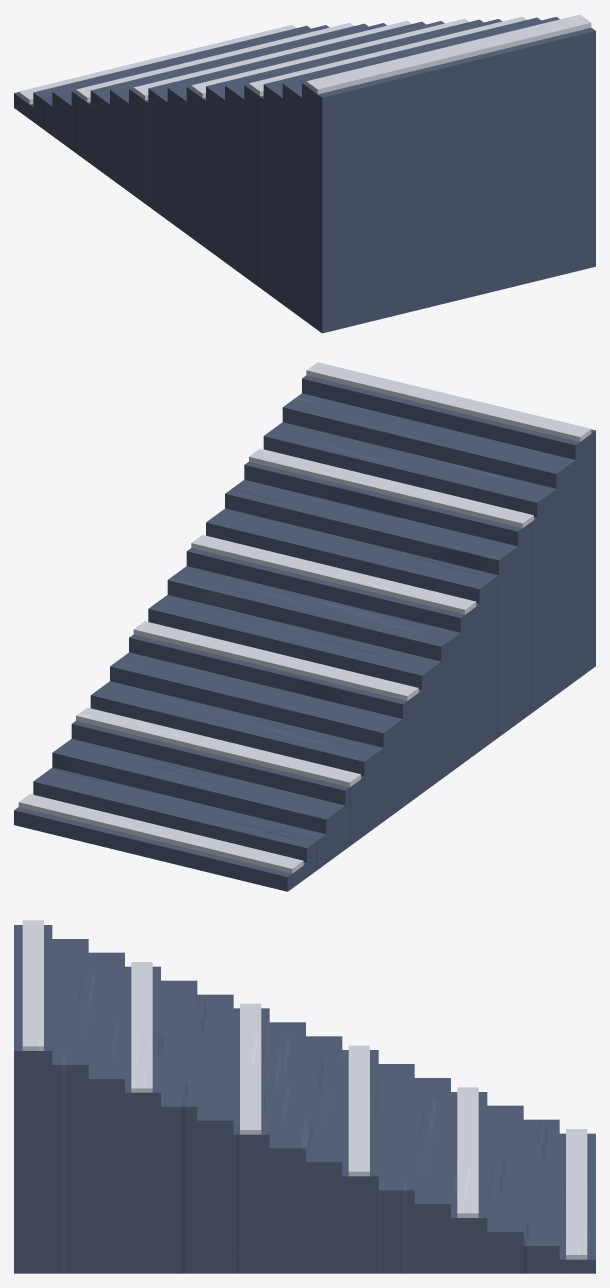
File: snow_stairway_lod0.glb
The picture shows the model from 3 angles, top to bottom: view 1: azimuth 30°, elevation 25°; view 2: azimuth 150°, elevation 25°; view 3: azimuth 270°, elevation 25°; orthographic projection. The views are drawn at different scales.
Visible parts, largest first — view 1: stone_20, stone_18, stone_19, stone_15, snow_21, stone_14, stone_11, stone_16, stone_10, stone_6, stone_7, stone_12 (+9 smaller); view 2: stone_19, stone_18, stone_15, stone_14, stone_11, stone_10, stone_7, stone_6, stone_20, stone_3, stone_2, stone_16 (+10 smaller); view 3: stone_19, stone_18, stone_15, stone_20, stone_14, stone_11, stone_10, stone_16, stone_7, stone_12, stone_6, stone_3 (+10 smaller).
Part boxes in pixels (left/top/right/bottom): stone_20: left=302, top=27, right=595, bottom=333; stone_18: left=263, top=17, right=540, bottom=305; stone_19: left=282, top=17, right=559, bottom=318; stone_15: left=225, top=19, right=501, bottom=276; snow_21: left=306, top=14, right=591, bottom=94; stone_14: left=206, top=19, right=483, bottom=261; stone_11: left=167, top=21, right=444, bottom=234; stone_16: left=244, top=84, right=264, bottom=290; stone_10: left=148, top=21, right=425, bottom=220; stone_6: left=90, top=23, right=367, bottom=178; stone_7: left=110, top=23, right=386, bottom=191; stone_12: left=186, top=86, right=206, bottom=248; stone_19: left=282, top=393, right=576, bottom=693; stone_18: left=263, top=422, right=557, bottom=707; stone_15: left=225, top=479, right=519, bottom=736; stone_14: left=206, top=508, right=499, bottom=750; stone_11: left=167, top=566, right=461, bottom=778; stone_10: left=148, top=595, right=442, bottom=793; stone_7: left=110, top=652, right=403, bottom=820; stone_6: left=90, top=681, right=384, bottom=834; stone_20: left=302, top=375, right=595, bottom=680; stone_3: left=52, top=738, right=346, bottom=863; stone_2: left=33, top=767, right=327, bottom=877; stone_16: left=244, top=461, right=538, bottom=722; stone_19: left=50, top=939, right=88, bottom=1273; stone_18: left=86, top=952, right=124, bottom=1273; stone_15: left=159, top=980, right=197, bottom=1273; stone_20: left=14, top=925, right=52, bottom=1273; stone_14: left=195, top=994, right=233, bottom=1273; stone_11: left=267, top=1022, right=305, bottom=1273; stone_10: left=304, top=1036, right=342, bottom=1273; stone_16: left=122, top=966, right=160, bottom=1273; stone_7: left=376, top=1064, right=414, bottom=1273; stone_12: left=231, top=1008, right=269, bottom=1273; stone_6: left=412, top=1078, right=450, bottom=1273; stone_3: left=485, top=1105, right=523, bottom=1273.
Size of the model in its own units: 7 by 5.88 by 13.65.
Materials: 2 (2 with a texture image).
